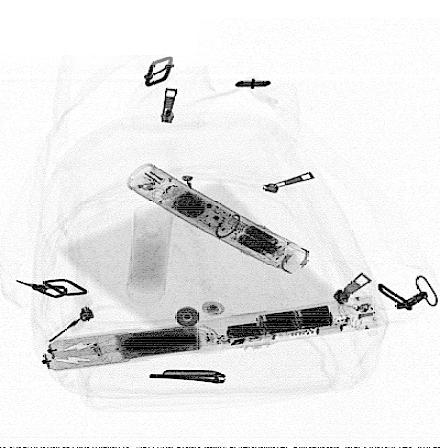Baton: (39, 294, 387, 372), (126, 162, 310, 275)
